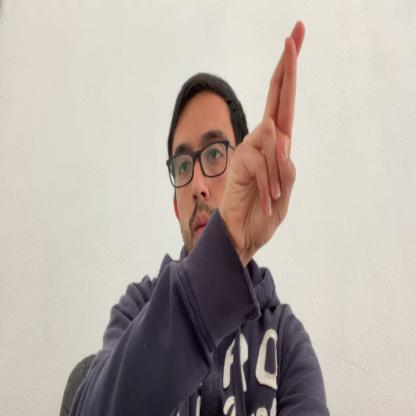R: (223, 20, 304, 244)
